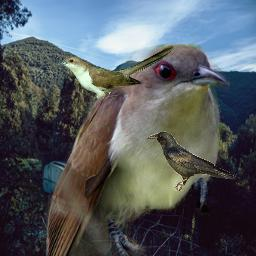Crow: (146, 131, 236, 191)
Cuckoo: (46, 44, 230, 256), (56, 45, 174, 99)
